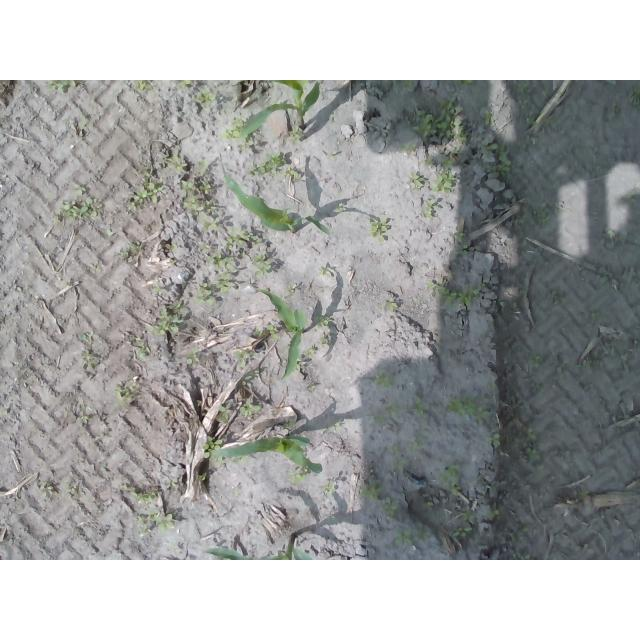Maize: (218, 153, 335, 238), (241, 81, 321, 140), (259, 287, 308, 382), (210, 434, 324, 474), (205, 534, 317, 560)
Weeds: (202, 232, 274, 293), (122, 480, 178, 539), (415, 94, 470, 142), (181, 175, 224, 233), (426, 281, 486, 307), (57, 186, 103, 219), (127, 181, 170, 213), (151, 302, 189, 337), (447, 399, 494, 425), (481, 141, 512, 177), (246, 152, 287, 177), (516, 80, 534, 125), (393, 529, 432, 546), (440, 463, 462, 493), (524, 426, 541, 463), (370, 217, 393, 243), (193, 283, 216, 307), (114, 381, 139, 403), (432, 169, 454, 192), (201, 435, 223, 458), (116, 240, 143, 258), (254, 323, 280, 338), (166, 153, 186, 172), (361, 480, 379, 501), (129, 339, 147, 360), (47, 80, 76, 93), (239, 400, 262, 416), (421, 199, 436, 222), (533, 205, 550, 225), (374, 368, 391, 386), (628, 86, 640, 111), (197, 90, 215, 106), (413, 397, 428, 416), (234, 346, 247, 367), (409, 174, 425, 191), (185, 347, 200, 365), (605, 227, 624, 241), (455, 526, 474, 538), (382, 296, 398, 310), (39, 484, 55, 498), (384, 401, 397, 418), (313, 316, 331, 328), (487, 433, 502, 447), (408, 436, 424, 449), (218, 406, 230, 423), (438, 157, 460, 166), (383, 503, 398, 516), (484, 111, 497, 126), (137, 80, 152, 93), (223, 126, 238, 139), (196, 158, 207, 174), (486, 507, 503, 517), (527, 354, 541, 366), (545, 115, 559, 127), (512, 552, 532, 560), (288, 168, 300, 181), (453, 232, 466, 244), (627, 190, 640, 202), (78, 331, 95, 340), (290, 473, 305, 483), (462, 509, 474, 521), (582, 359, 595, 370), (305, 345, 315, 359), (591, 309, 602, 321), (456, 81, 473, 88), (319, 266, 329, 277), (242, 373, 254, 382), (420, 501, 432, 510), (422, 159, 434, 167), (179, 81, 192, 88), (79, 416, 89, 425), (199, 472, 208, 481), (151, 286, 161, 294), (323, 482, 333, 490), (246, 136, 254, 144), (336, 207, 345, 214), (234, 119, 243, 126)
